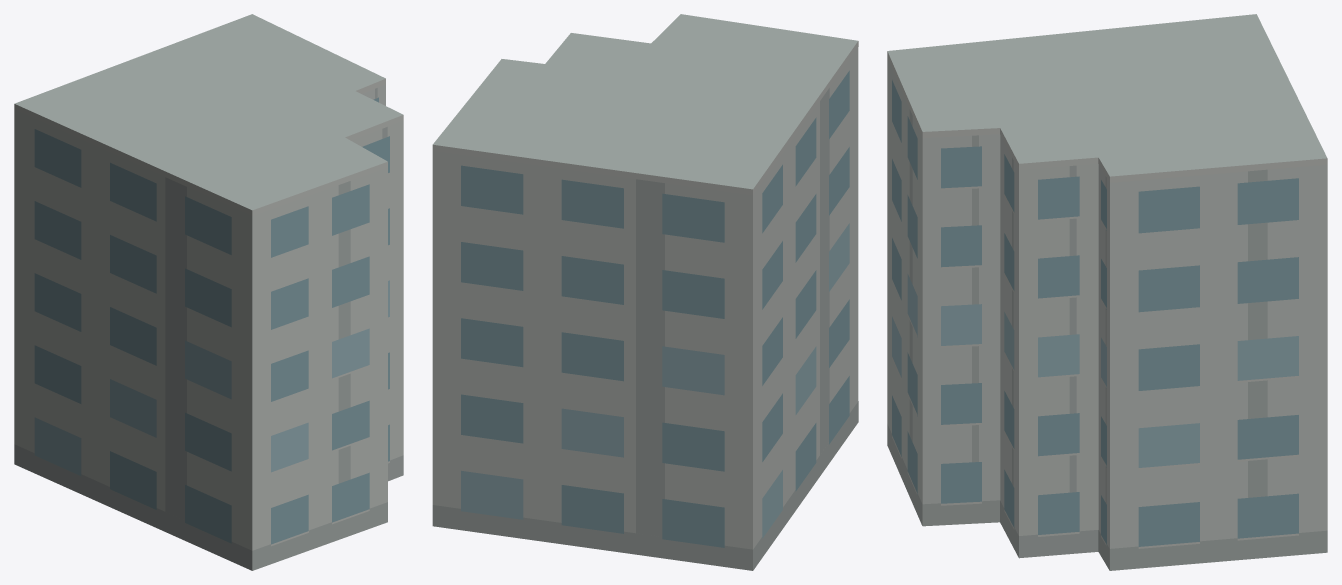
The model's file is survey-upis-32540320.glb.
3 views of the same model, side by side, from view 1: azimuth 30°, elevation 25°; view 2: azimuth 150°, elevation 25°; view 3: azimuth 270°, elevation 25° (orthographic). The views are drawn at different scales.
Visible parts, largest first — view 1: survey-upis-32540320.tmp; view 2: survey-upis-32540320.tmp; view 3: survey-upis-32540320.tmp.
Part boxes in pixels (box(x1,y1,x2,y2)): survey-upis-32540320.tmp: box(14, 14, 403, 570); survey-upis-32540320.tmp: box(432, 14, 858, 570); survey-upis-32540320.tmp: box(887, 14, 1327, 570).
Bounding box in the file's own units: 13.49 × 15.25 × 15.44.
